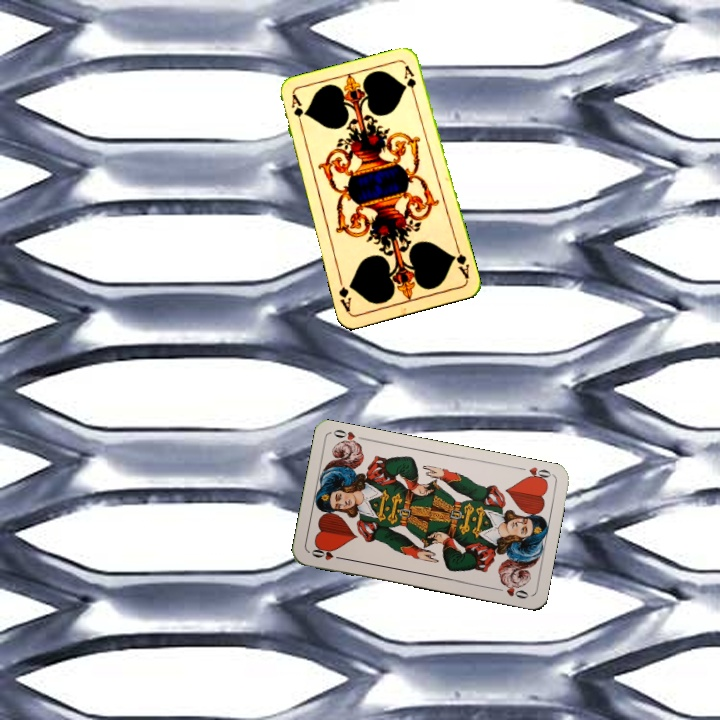GA: (449, 242, 472, 282), (287, 91, 305, 131)
HO: (520, 463, 555, 485), (307, 544, 346, 563)
